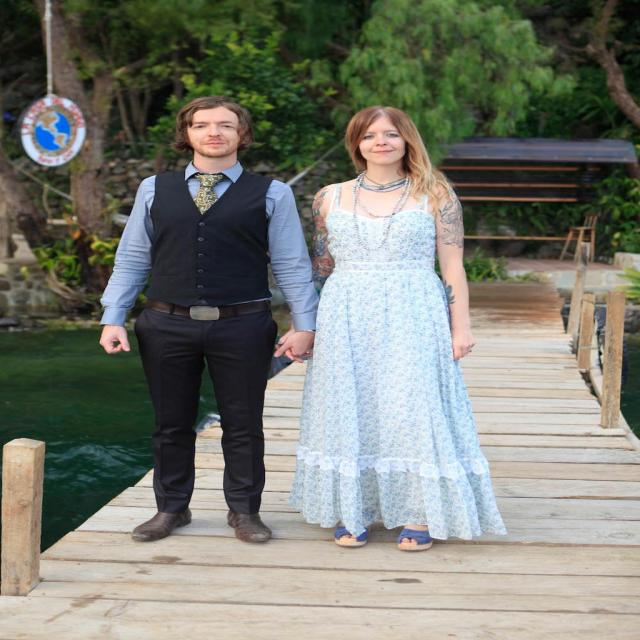Face: (181, 110, 251, 158), (360, 122, 412, 162)
